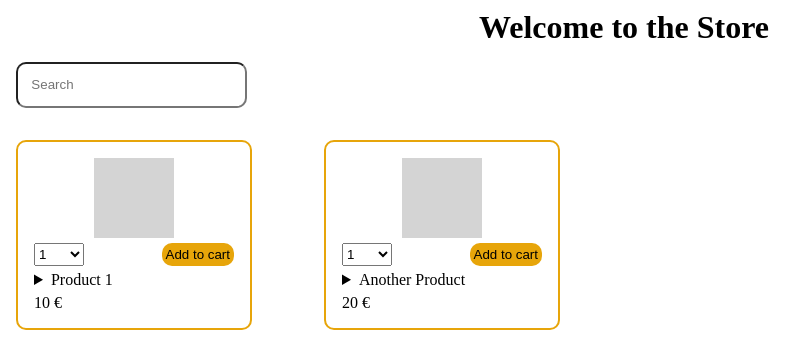
Test: StorePage component › filters products based on search input
The width and height of the screenshot is (786, 347).
In the field with placeholder "Search": (131, 85) top-left (16, 62), bottom-right (247, 108), type "Product 1"
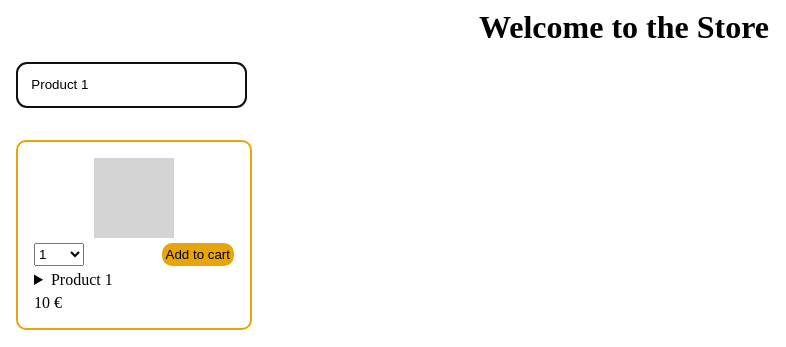
Expected: the heading "Product 1" is shown, top-left (51, 271), bottom-right (113, 288)
Result: the heading "Another Product" is gone
